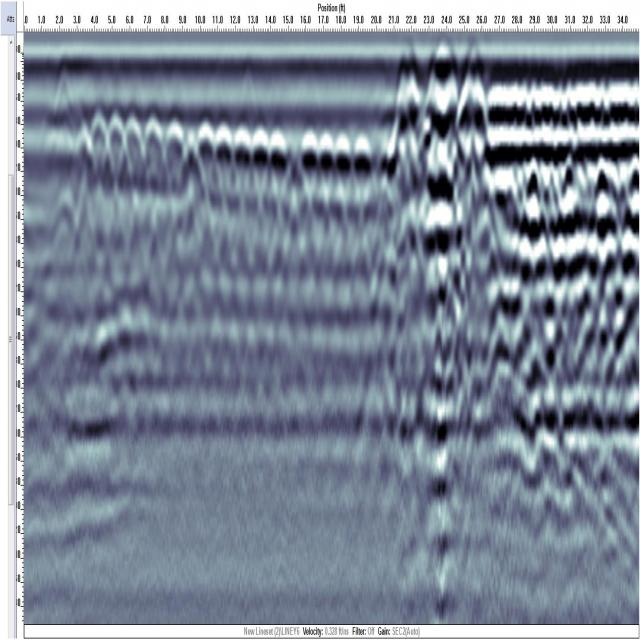hyperbola: (293, 125, 322, 230), (350, 123, 377, 226), (102, 104, 129, 204), (119, 111, 146, 193), (315, 125, 336, 222), (333, 124, 353, 222), (141, 114, 167, 186)
